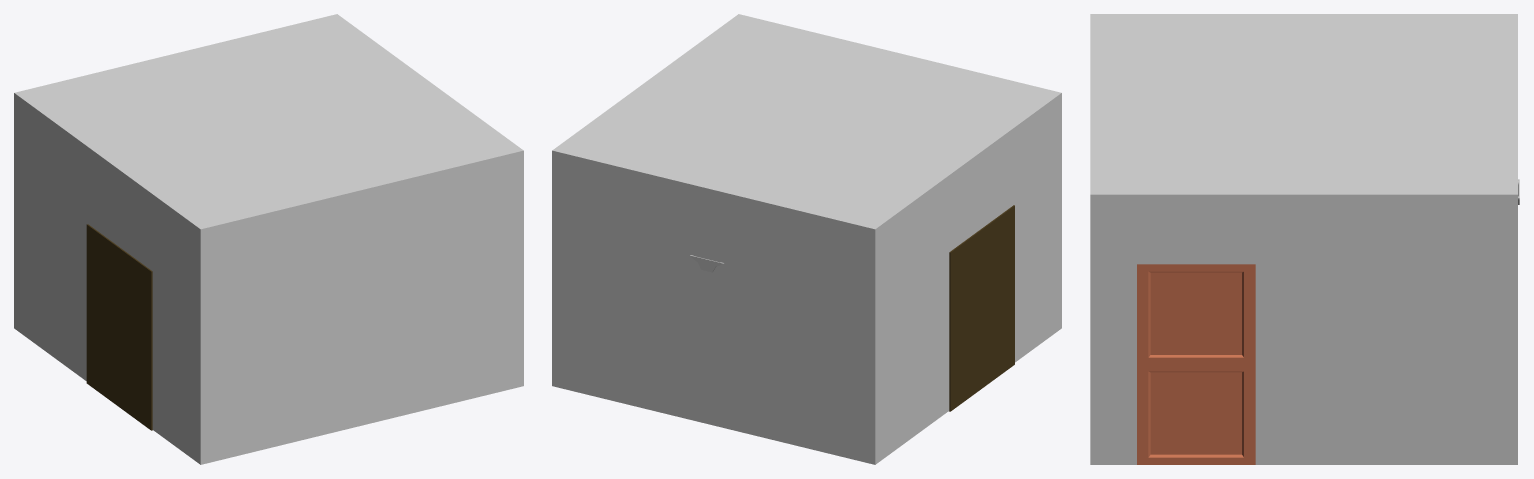
File: room_final.fbx
3 renders of one model, left to right at view 1: azimuth 30°, elevation 25°; view 2: azimuth 150°, elevation 25°; view 3: azimuth 270°, elevation 25°, orthographic. The views are drawn at different scales.
Visible parts, largest first — view 1: Walls, Ormar; view 2: Walls, Ormar; view 3: Walls, Door.
Boxes of the visible parts, left/top/right/bottom form: Walls: left=14, top=14, right=523, bottom=464; Ormar: left=86, top=224, right=152, bottom=430; Walls: left=552, top=14, right=1061, bottom=464; Ormar: left=949, top=205, right=1014, bottom=411; Walls: left=1090, top=14, right=1517, bottom=464; Door: left=1137, top=264, right=1255, bottom=464.
Size of the model in its own units: 932 by 651 by 932.
